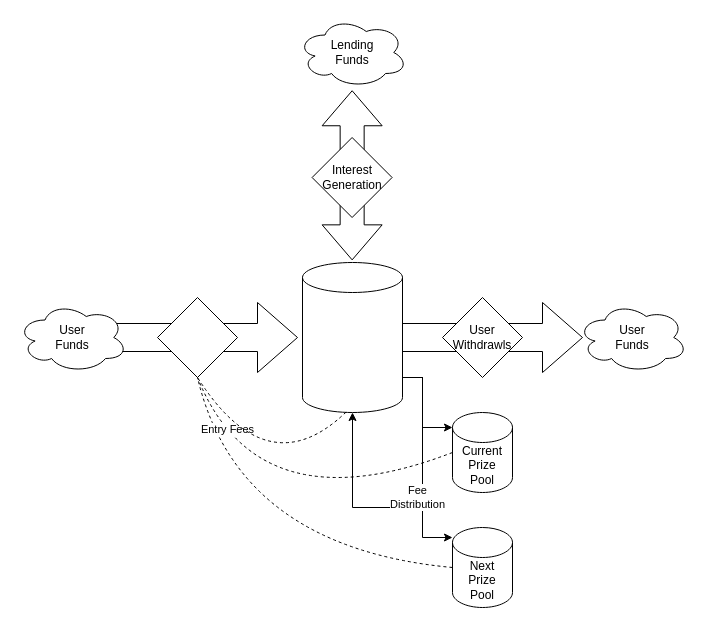
Image size: 705x625. Some labels were removed from this diagram. The shapes that lost their labels are listed below. From the top down, each one's centre as x and y in pixels, then its label:
At [197,337]: "User Deposits".
At [352,337]: "Bond Redemption Pool".
